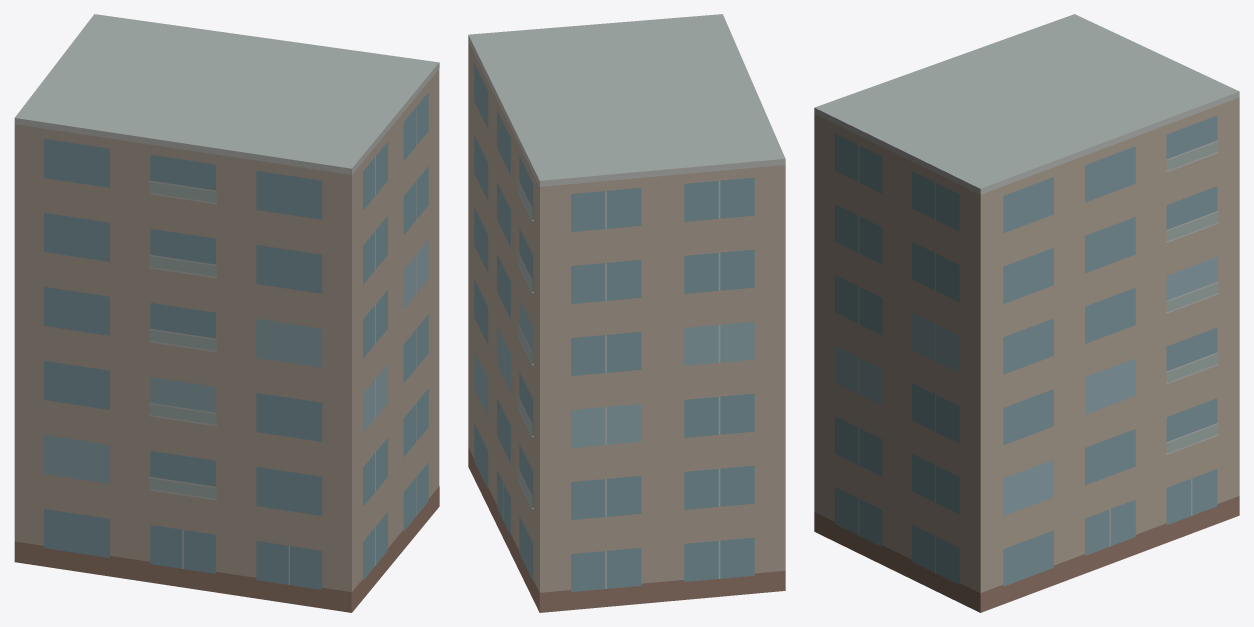
Rendered from survey-upis-32976645.glb.
3 views of the same model, side by side, from view 1: azimuth 30°, elevation 25°; view 2: azimuth 150°, elevation 25°; view 3: azimuth 270°, elevation 25° (orthographic). The views are drawn at different scales.
Parts seen in each view (by area): view 1: survey-upis-32976645.tmp; view 2: survey-upis-32976645.tmp; view 3: survey-upis-32976645.tmp.
Boxes of the visible parts, x1,y1,x2,y2 form: survey-upis-32976645.tmp: [14, 14, 439, 612]; survey-upis-32976645.tmp: [468, 14, 785, 612]; survey-upis-32976645.tmp: [814, 14, 1239, 612].
Bounding box in the file's own units: 15.31 × 17.3 × 15.74.
